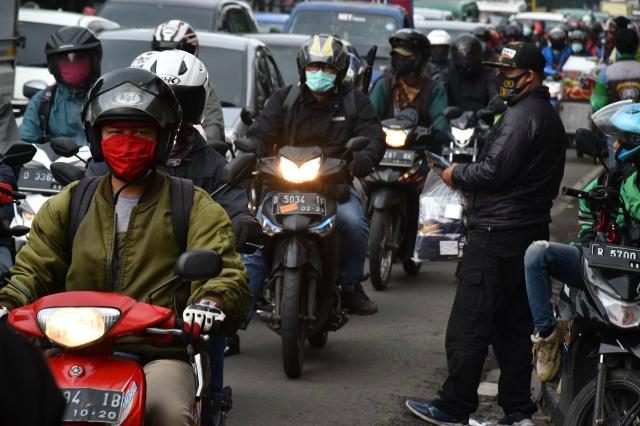helm: (81, 66, 189, 188), (131, 52, 214, 141), (590, 97, 640, 180), (45, 27, 106, 93), (295, 34, 353, 101), (387, 30, 430, 82), (152, 18, 202, 60), (448, 35, 488, 85)
motor: (2, 288, 238, 426), (239, 134, 362, 384), (543, 182, 640, 426), (365, 114, 440, 294), (438, 101, 496, 201)
